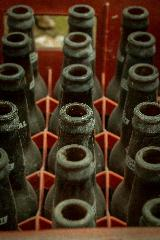glass: (2, 5, 160, 227)
